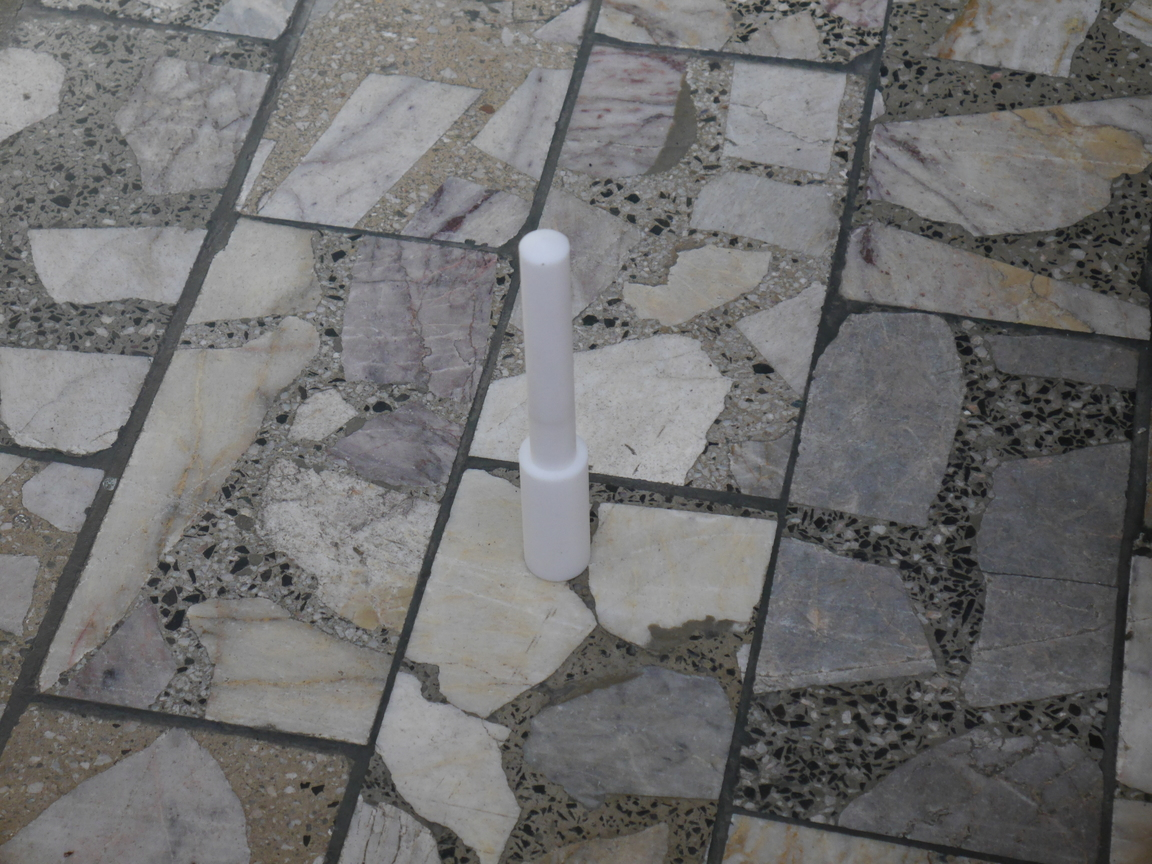cargo_g: (519, 227, 591, 589)
